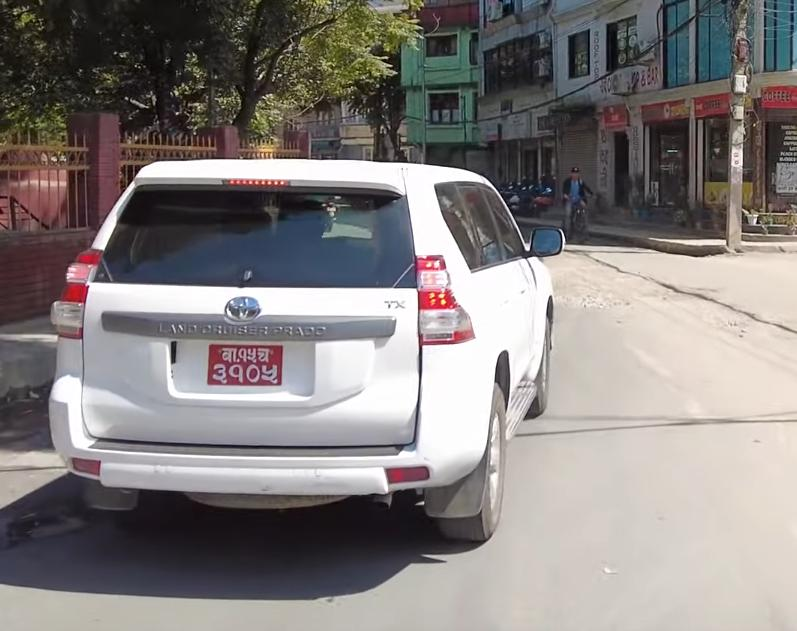SUV: (42, 150, 586, 551)
